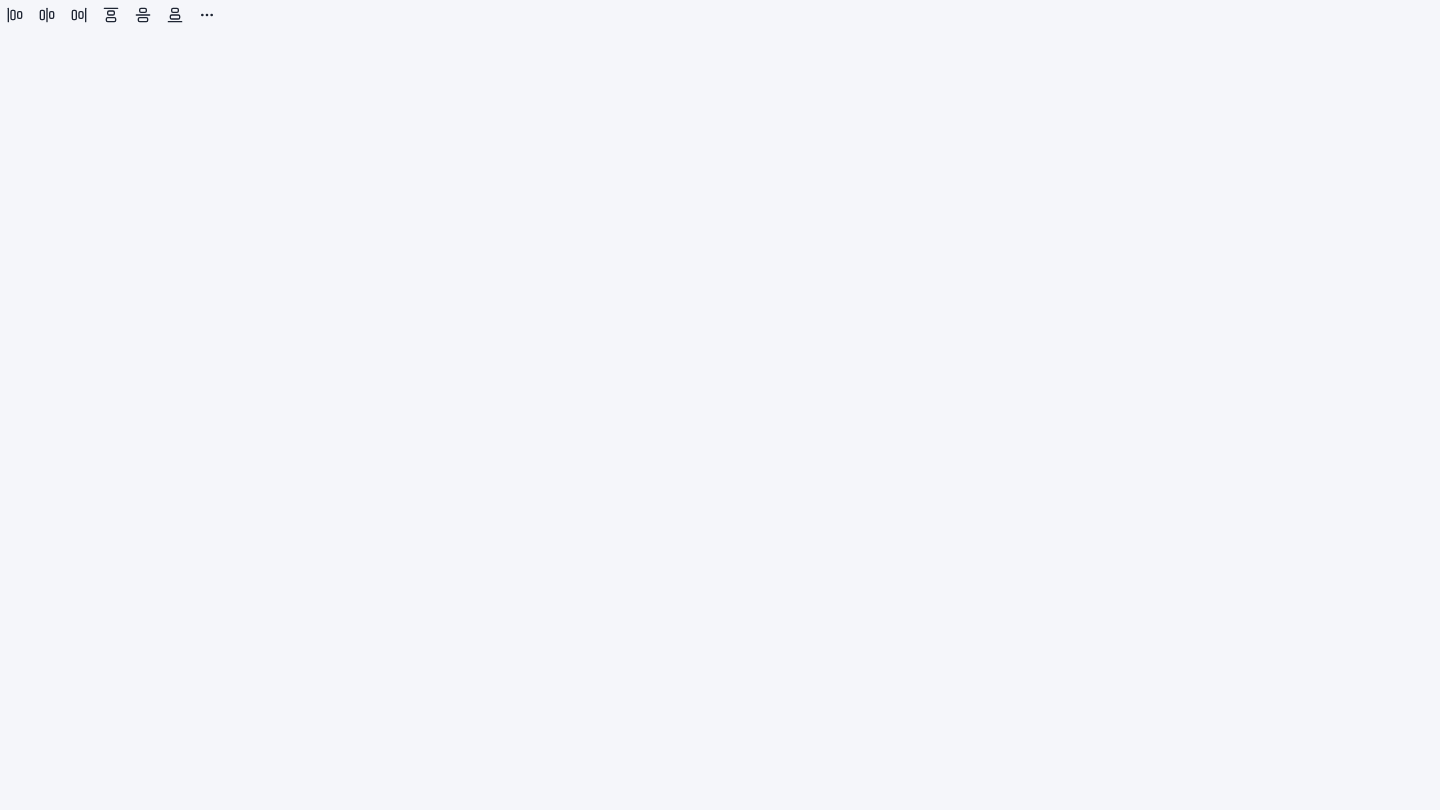
Test: kompaktní formátovací lišta › u víceprvkového výběru zachová zarovnání, rozmístění a skupiny
The image size is (1440, 810).
Expected: the button named "Zarovnat vlevo podle výběru" is shown, [0,0,30,30]
Step 1. Click the button named "Další možnosti" → (207, 15), box [192,0,222,30]
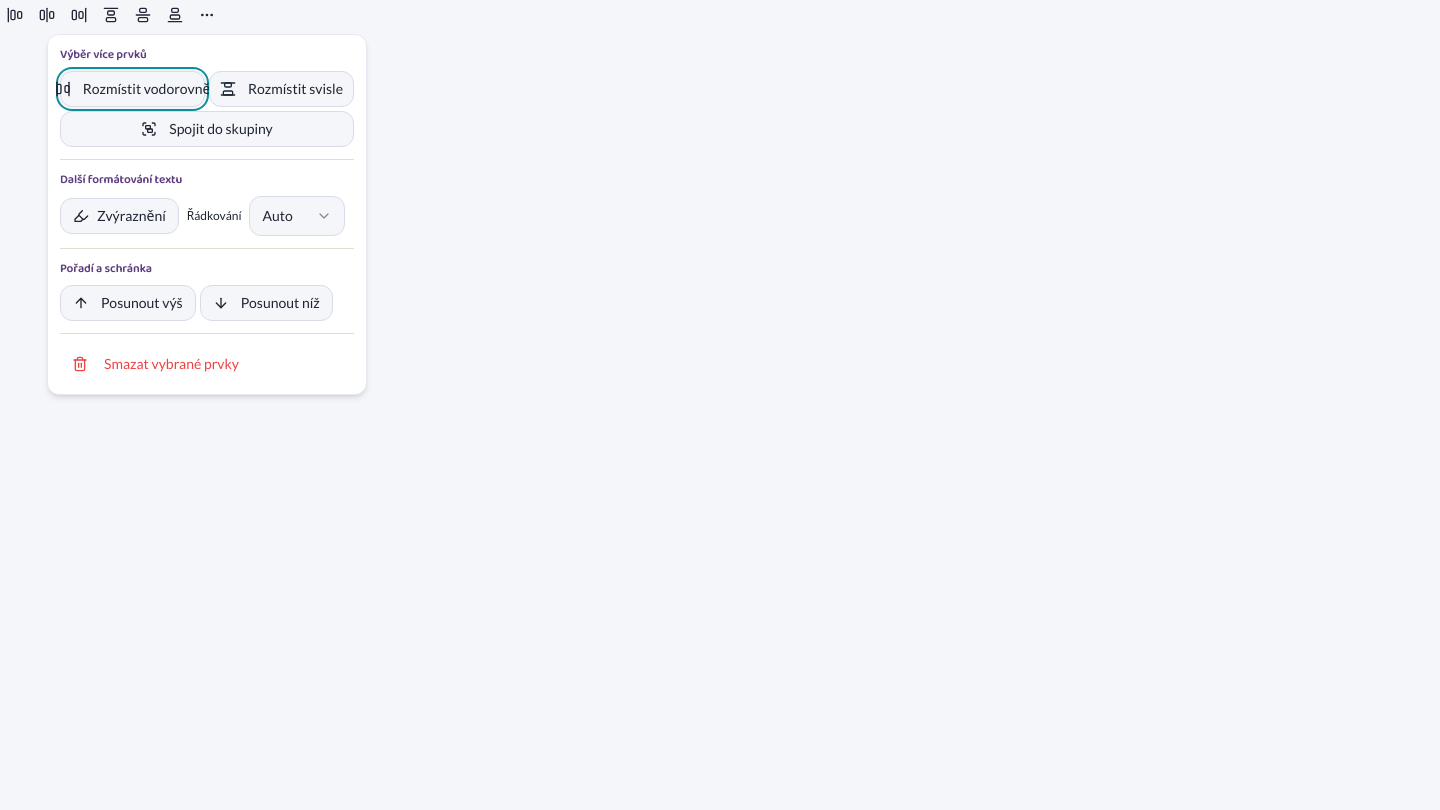
Result: the button "Rozmístit vodorovně" is shown at [60,71,205,107]
Result: the button "Spojit do skupiny" is shown at [60,111,354,147]
